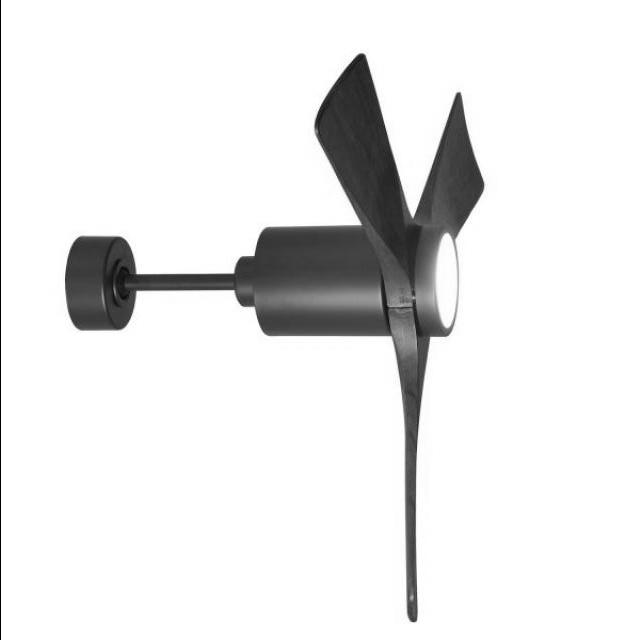fan: (62, 53, 483, 623)
